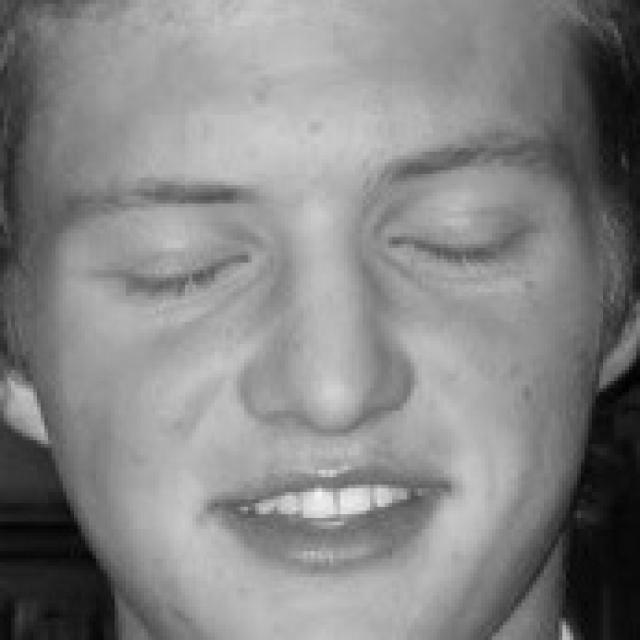real: (30, 14, 589, 574), (70, 170, 556, 320)
